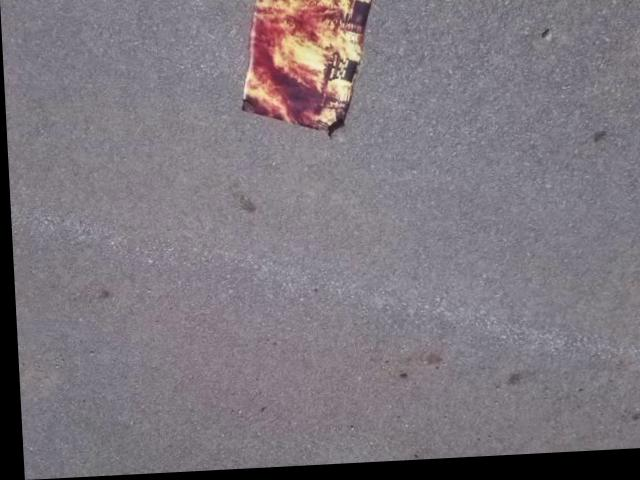fire-poster: (233, 0, 384, 148)
